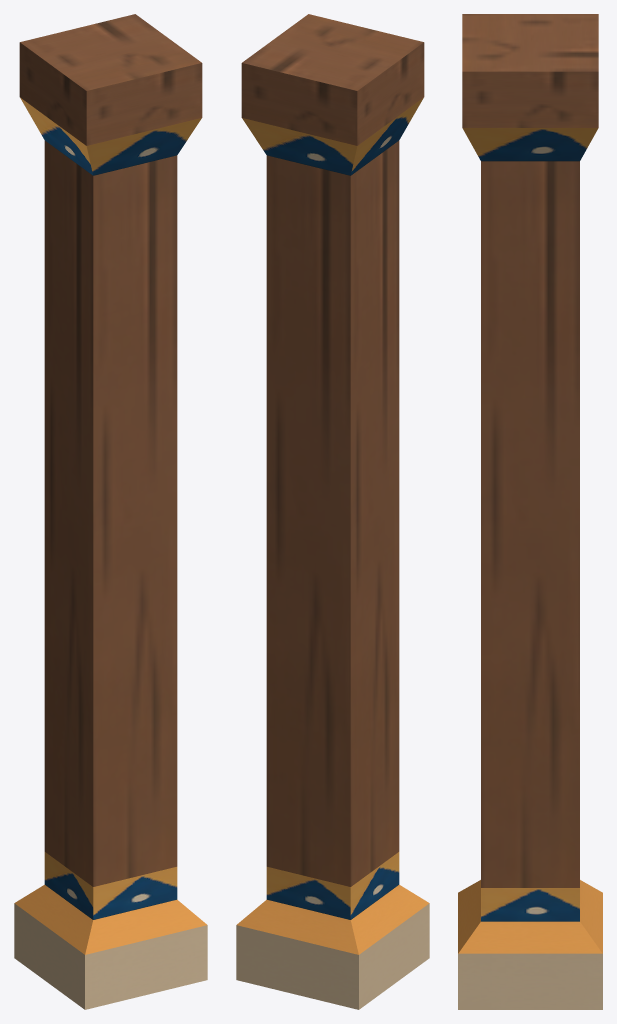
Rendered from rc_wa_timber_column_5m.glb.
The picture shows the model from 3 angles, left to right: view 1: azimuth 30°, elevation 25°; view 2: azimuth 150°, elevation 25°; view 3: azimuth 270°, elevation 25°; orthographic projection. The views are drawn at different scales.
Parts seen in each view (by area): view 1: SM_RC_WA_TimberColumn_5m; view 2: SM_RC_WA_TimberColumn_5m; view 3: SM_RC_WA_TimberColumn_5m.
Boxes of the visible parts, bbox=[...] form: SM_RC_WA_TimberColumn_5m: bbox=[14, 14, 207, 1009]; SM_RC_WA_TimberColumn_5m: bbox=[236, 14, 429, 1009]; SM_RC_WA_TimberColumn_5m: bbox=[458, 14, 602, 1009].
Bounding box in the file's own units: 0.7 × 5 × 0.7.
1 material, 1 textured.
